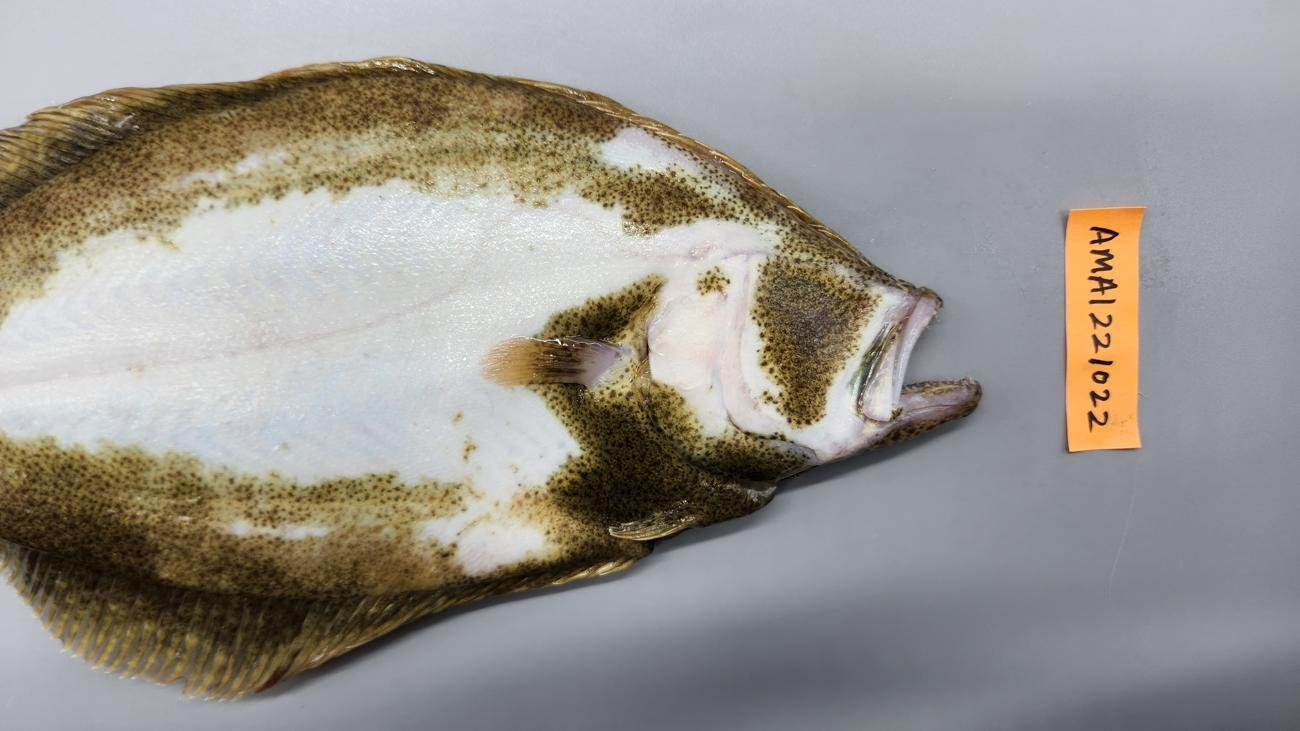MAFAH: (1, 522, 392, 711)
